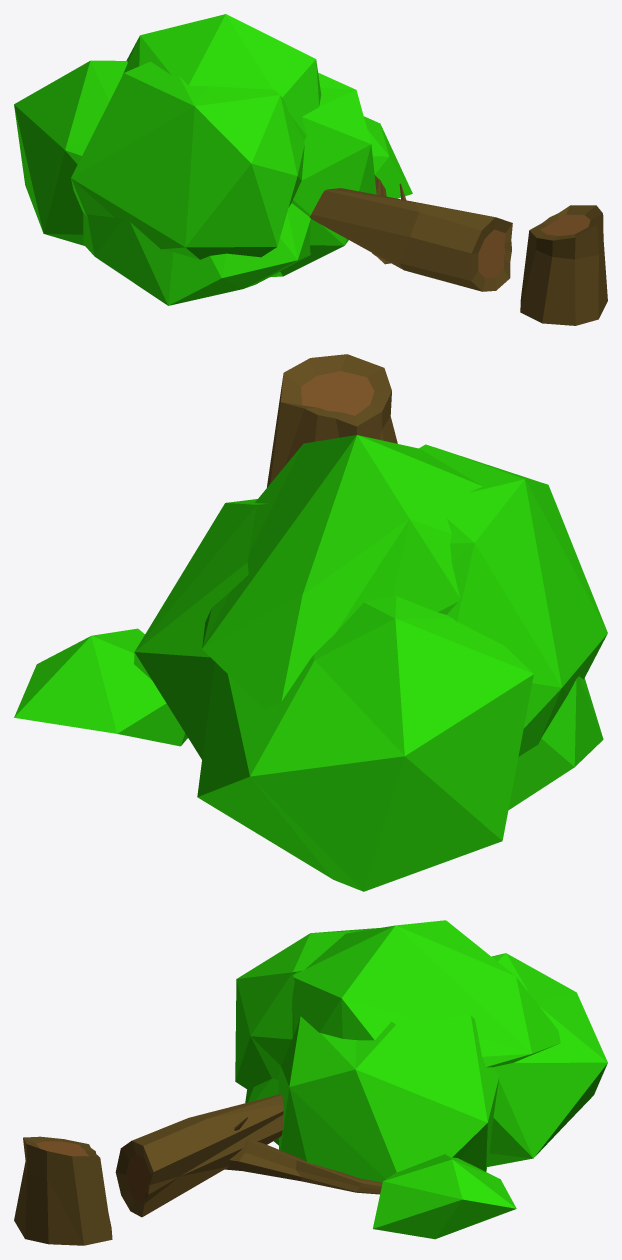
File: Tree#10.fbx
The picture shows the model from 3 angles, top to bottom: view 1: azimuth 30°, elevation 25°; view 2: azimuth 150°, elevation 25°; view 3: azimuth 270°, elevation 25°; orthographic projection. The views are drawn at different scales.
Parts seen in each view (by area): view 1: Tree#10; view 2: Tree#10; view 3: Tree#10.
Boxes of the visible parts, left/top/right/bottom form: Tree#10: left=14, top=14, right=607, bottom=325; Tree#10: left=14, top=354, right=607, bottom=891; Tree#10: left=14, top=920, right=607, bottom=1245.
Size of the model in its own units: 1502 by 1002 by 2089.
